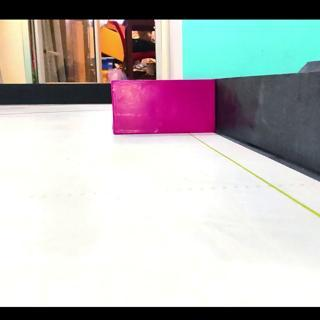xparking: (112, 81, 212, 133)
